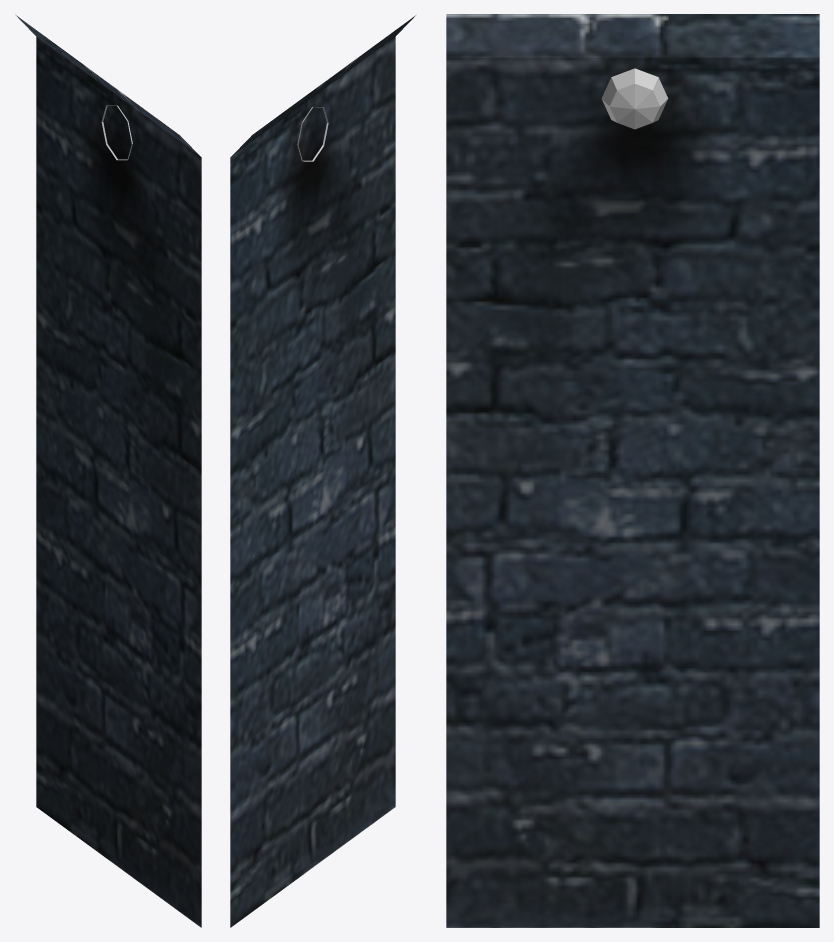
3 renders of one model, left to right at view 1: azimuth 30°, elevation 25°; view 2: azimuth 150°, elevation 25°; view 3: azimuth 270°, elevation 25°, orthographic. The views are drawn at different scales.
Parts seen in each view (by area): view 1: xs_wj20; view 2: xs_wj20; view 3: xs_wj20.
Boxes of the visible parts, left/top/right/bottom form: xs_wj20: left=16, top=15, right=201, bottom=927; xs_wj20: left=230, top=15, right=415, bottom=927; xs_wj20: left=446, top=14, right=819, bottom=927.
Bounding box in the file's own units: 110 × 2032 × 762.
